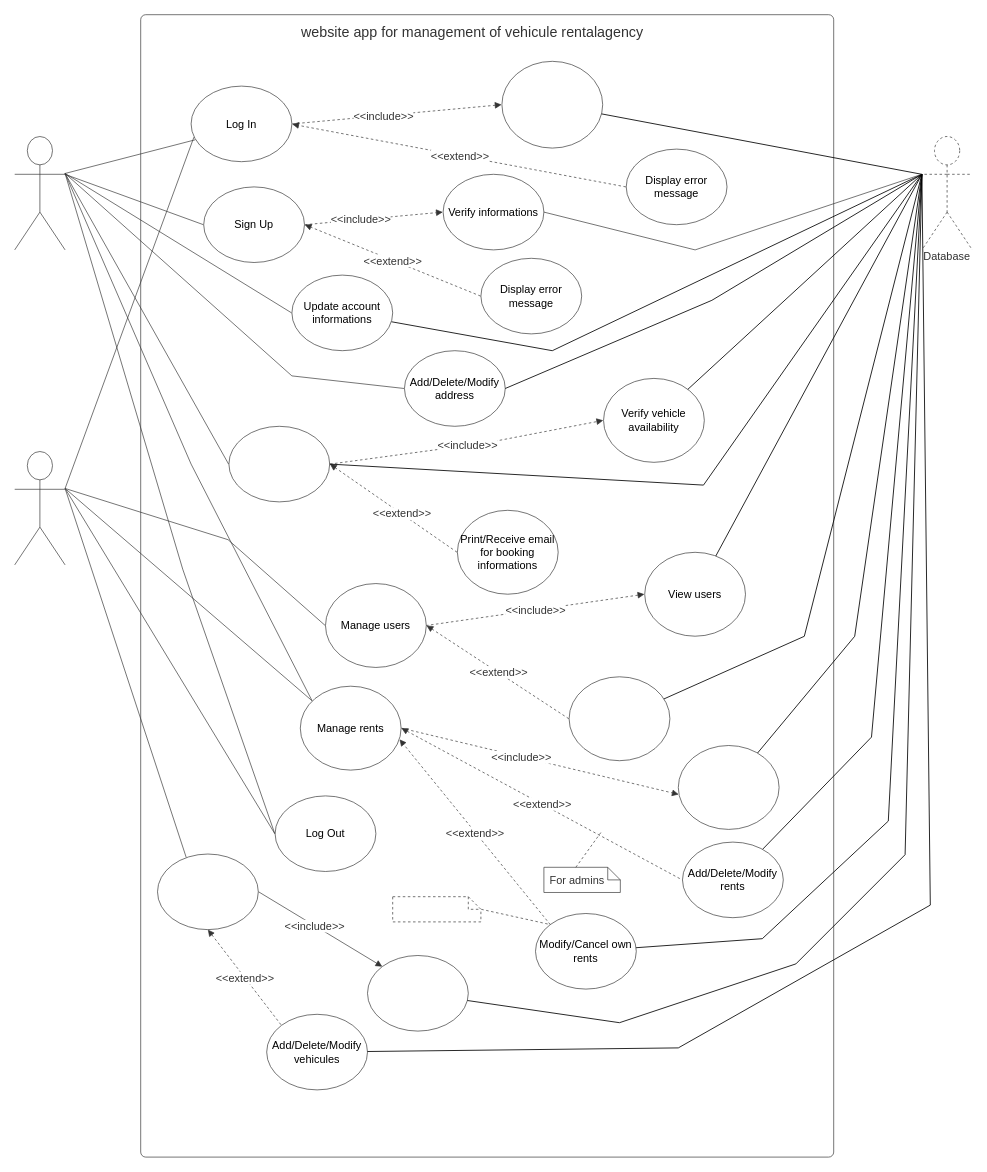
Image size: 987x1172. Some labels were removed from this diagram. The shapes that lost their labels are listed below. From the top down, each one's box as (x1, y1, x2, y2) in pixels, then its label:
(501, 61, 603, 148): Authenticate user details
(14, 136, 65, 250): Customer
(228, 426, 330, 502): Rent a vehicule
(14, 451, 65, 565): Admin
(568, 676, 670, 761): Add/Delete/Modify users
(678, 745, 779, 829): View rents
(157, 853, 258, 930): Manage vehicules
(392, 896, 481, 922): For customers
(367, 955, 468, 1031): View vehicules
